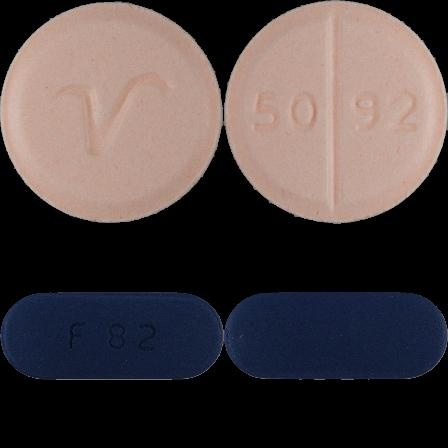63739-520: (0, 0, 224, 224)
